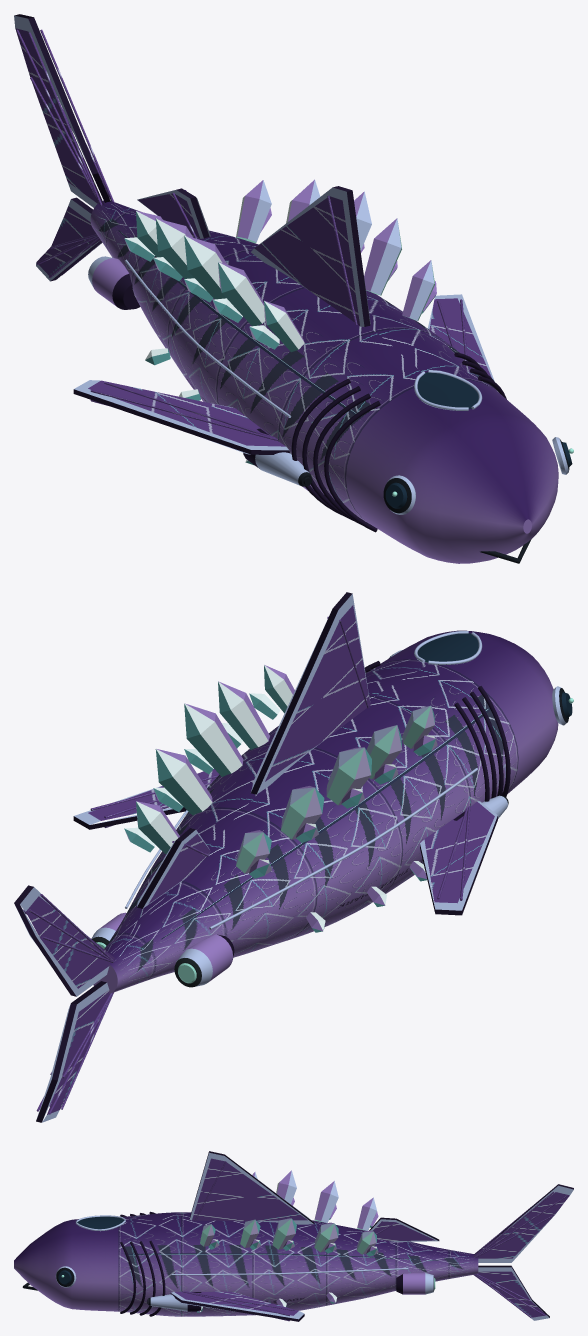
The picture shows the model from 3 angles, top to bottom: view 1: azimuth 30°, elevation 25°; view 2: azimuth 150°, elevation 25°; view 3: azimuth 270°, elevation 25°; orthographic projection. The views are drawn at different scales.
Visible parts, largest first — view 1: tiger_shark_hull; view 2: tiger_shark_hull; view 3: tiger_shark_hull.
Boxes of the visible parts, bbox=[...] form: tiger_shark_hull: bbox=[14, 14, 573, 563]; tiger_shark_hull: bbox=[14, 592, 573, 1122]; tiger_shark_hull: bbox=[14, 1151, 573, 1321].
Size of the model in its own units: 35.12 by 26.52 by 80.
Materials: 1 (1 with a texture image).
